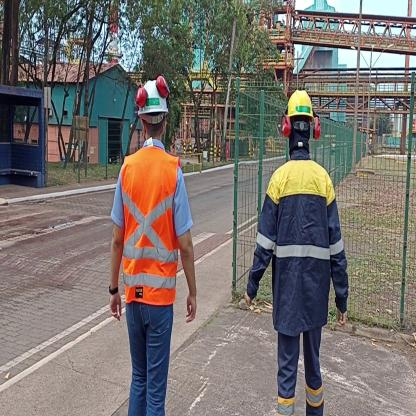Balaclava: (288, 119, 312, 155)
C_eletrica: (244, 156, 358, 325)
Capacete: (135, 72, 170, 114), (280, 86, 319, 119)
colete: (121, 153, 180, 307)
